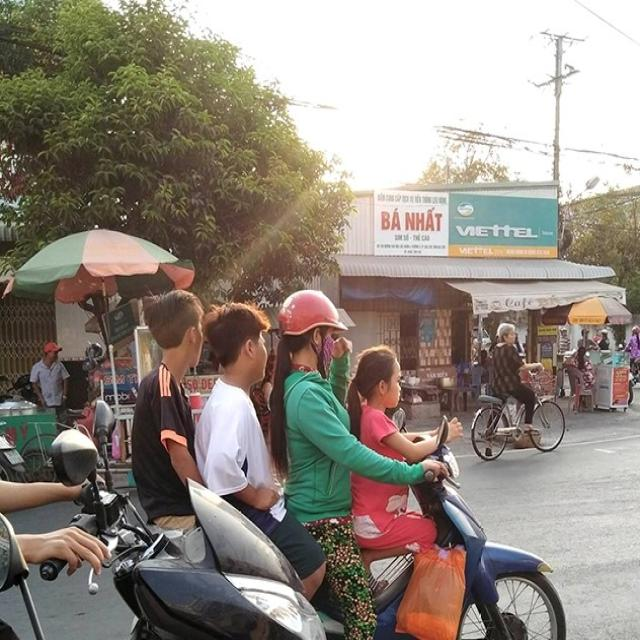helmet: (274, 288, 351, 336)
no_helmet: (199, 294, 272, 391), (134, 284, 206, 370), (345, 339, 410, 424)
